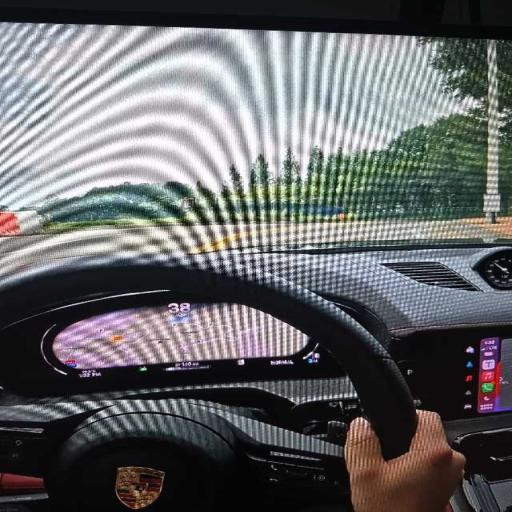car: (0, 13, 511, 511)
lane: (0, 221, 496, 272)
person: (345, 411, 465, 511)
